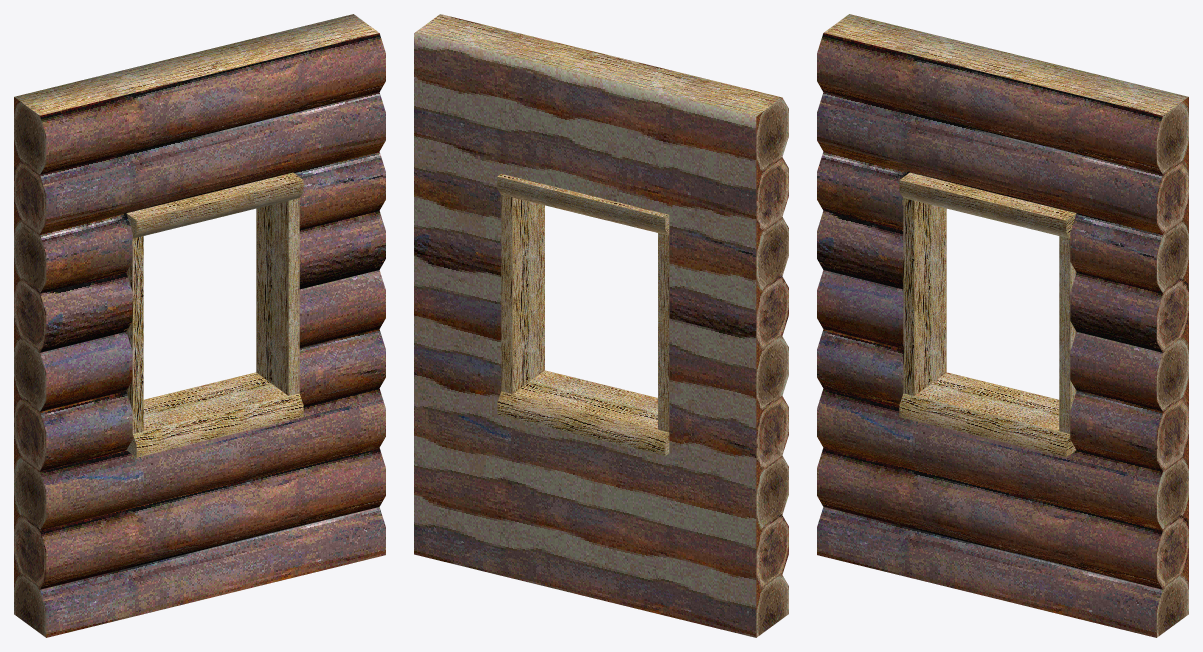
File: wall-A-window.glb
3 renders of one model, left to right at view 1: azimuth 30°, elevation 25°; view 2: azimuth 150°, elevation 25°; view 3: azimuth 330°, elevation 25°, orthographic.
Parts seen in each view (by area): view 1: wall-A-window.001; view 2: wall-A-window.001; view 3: wall-A-window.001.
Boxes of the visible parts, x1,y1,x2,y2 form: wall-A-window.001: [14, 14, 385, 637]; wall-A-window.001: [414, 14, 788, 637]; wall-A-window.001: [817, 14, 1188, 637].
Bounding box in the file's own units: 2 × 2.91 × 0.411.
2 materials, 2 textured.
